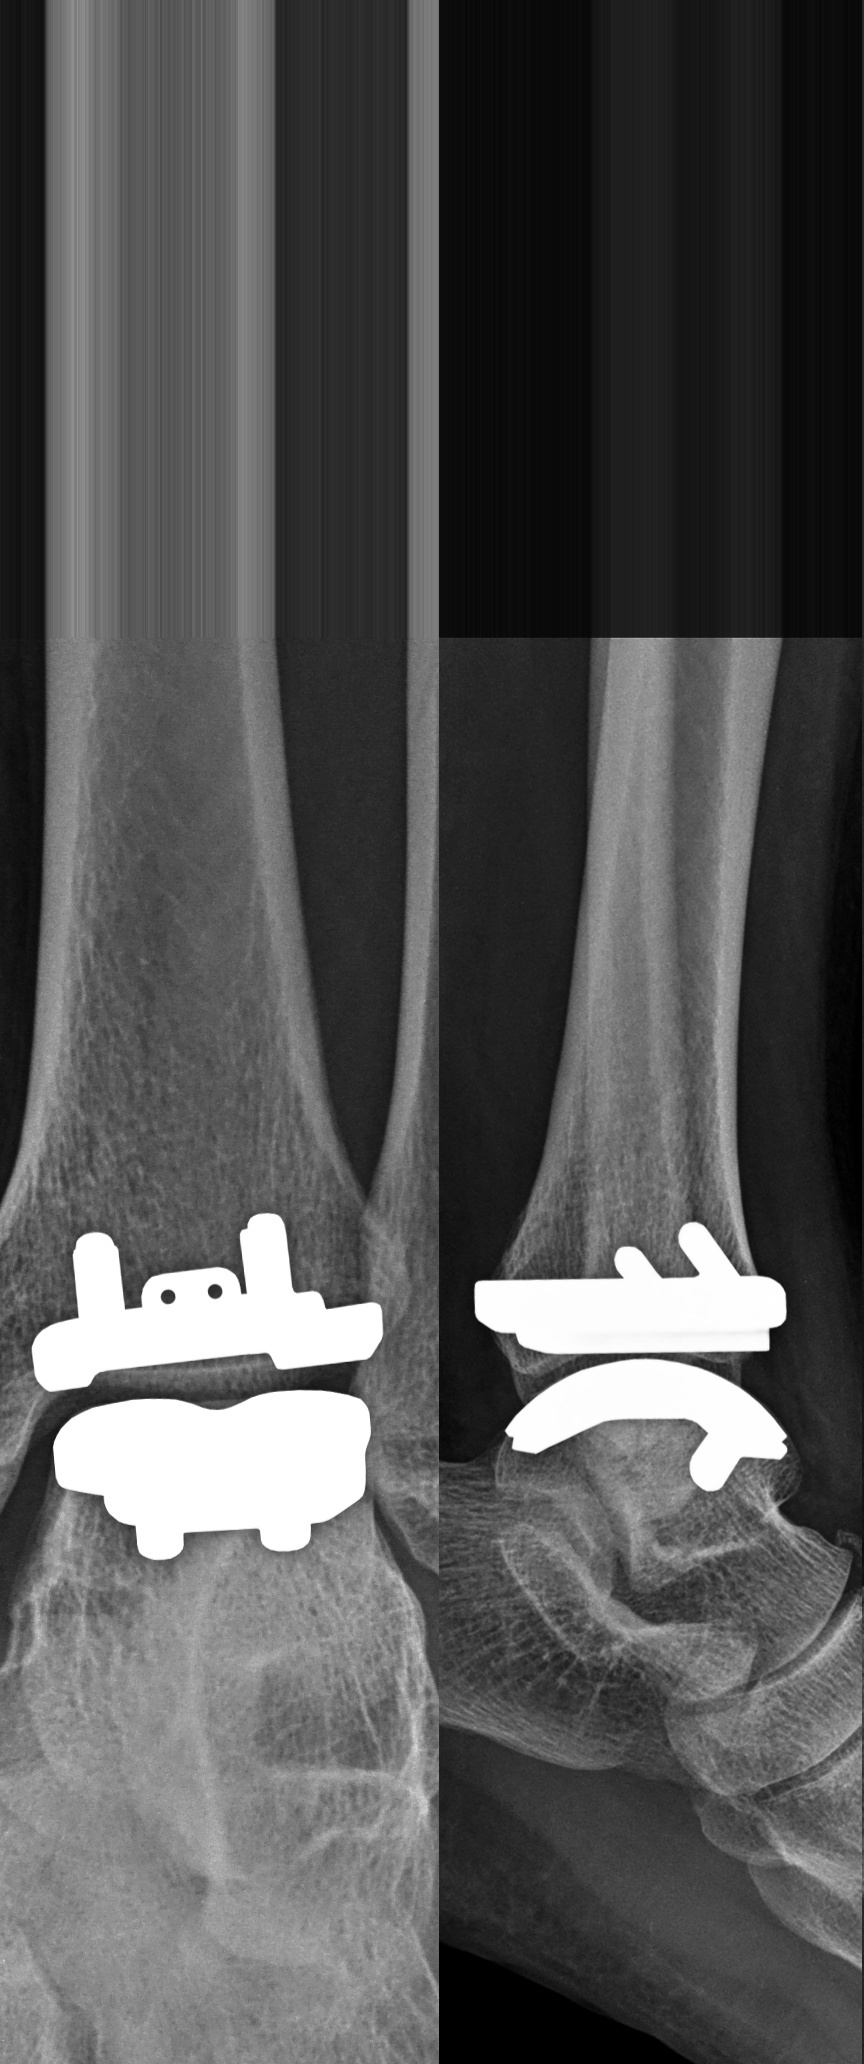Cadence-Integra: (7, 1214, 410, 1580), (465, 1198, 817, 1503)
